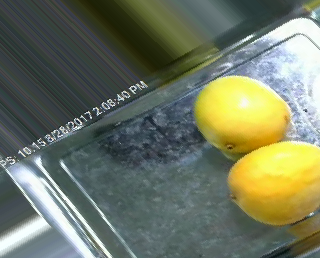Mango: (226, 138, 320, 230), (191, 76, 291, 153)
